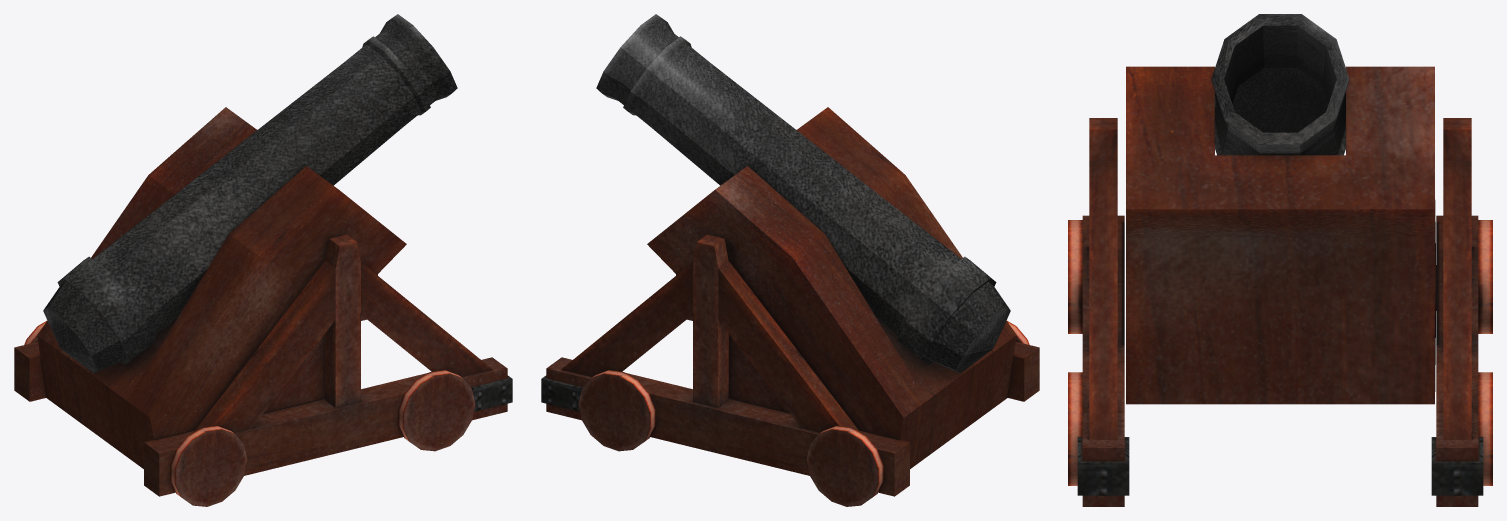
Rendered from cannon.fbx.
The picture shows the model from 3 angles, left to right: view 1: azimuth 30°, elevation 25°; view 2: azimuth 150°, elevation 25°; view 3: azimuth 270°, elevation 25°; orthographic projection. The views are drawn at different scales.
Visible parts, largest first — view 1: cannon; view 2: cannon; view 3: cannon.
Part boxes in pixels (bbox=[...]): cannon: bbox=[14, 14, 512, 506]; cannon: bbox=[541, 14, 1039, 506]; cannon: bbox=[1068, 14, 1492, 506].
Bounding box in the file's own units: 6.98 × 6.19 × 4.8.
